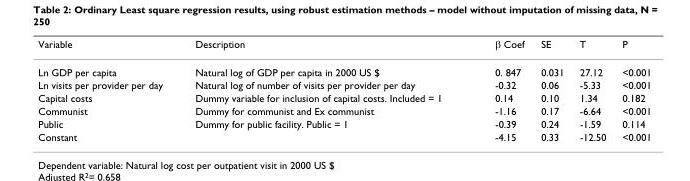table: (37, 36, 650, 142)
table column: (178, 36, 467, 142), (37, 36, 178, 142), (467, 36, 531, 142), (571, 36, 613, 142), (531, 36, 571, 142), (613, 36, 650, 142)
table column header: (37, 36, 650, 57)
table row: (37, 36, 650, 57), (37, 57, 650, 78), (37, 78, 650, 91), (37, 91, 650, 104), (37, 104, 650, 117), (37, 117, 650, 130), (37, 130, 650, 142)
